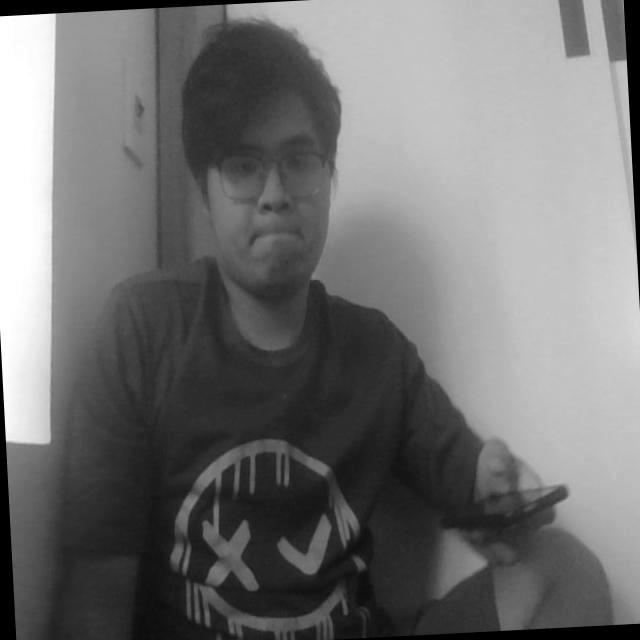phone: (465, 464, 584, 555)
